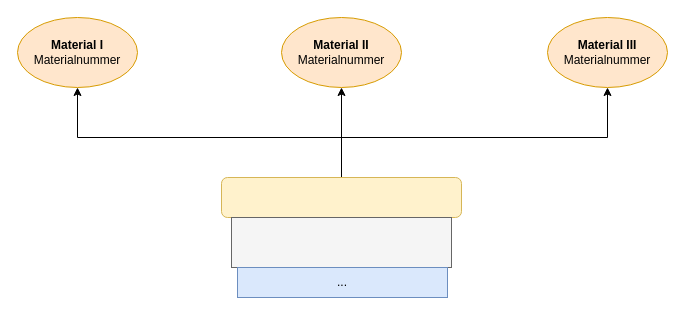
The diagram is 685 pixels wide and 315 high, and some of its shapes have lost their labels. Each missing label, with the centre of its shape:
DIS: point (341, 197)
Schriftkopf DIS-Nummer: point (341, 242)
